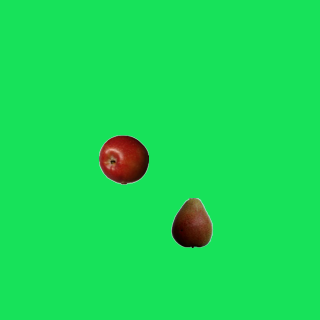Apple Braeburn: (98, 134, 148, 184)
Pear Forelle: (166, 197, 216, 247)
